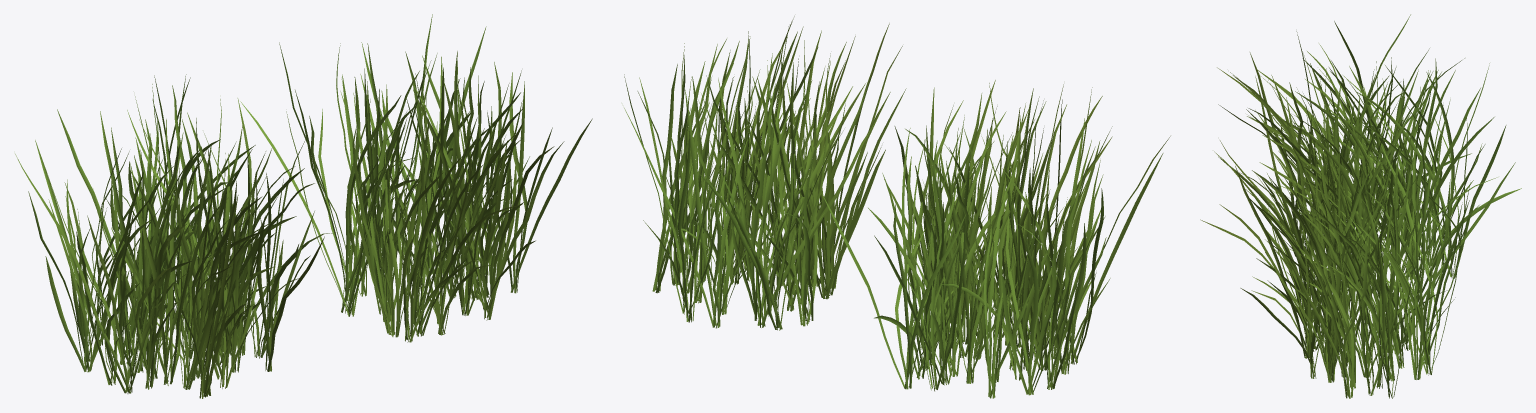
Rendered from grass.glb.
The picture shows the model from 3 angles, left to right: view 1: azimuth 30°, elevation 25°; view 2: azimuth 150°, elevation 25°; view 3: azimuth 270°, elevation 25°; orthographic projection. The views are drawn at different scales.
Parts seen in each view (by area): view 1: Wild Grass Patch 2, Wild Grass Patch 3; view 2: Wild Grass Patch 2, Wild Grass Patch 3; view 3: Wild Grass Patch 3, Wild Grass Patch 2.
Boxes of the visible parts, x1=… form: Wild Grass Patch 2: x1=15, y1=74, x2=332, y2=398; Wild Grass Patch 3: x1=240, y1=14, x2=592, y2=342; Wild Grass Patch 2: x1=821, y1=80, x2=1170, y2=398; Wild Grass Patch 3: x1=624, y1=16, x2=906, y2=330; Wild Grass Patch 3: x1=1200, y1=127, x2=1515, y2=398; Wild Grass Patch 2: x1=1217, y1=14, x2=1521, y2=288.
Bounding box in the file's own units: 1.89 × 0.9437 × 1.24.
